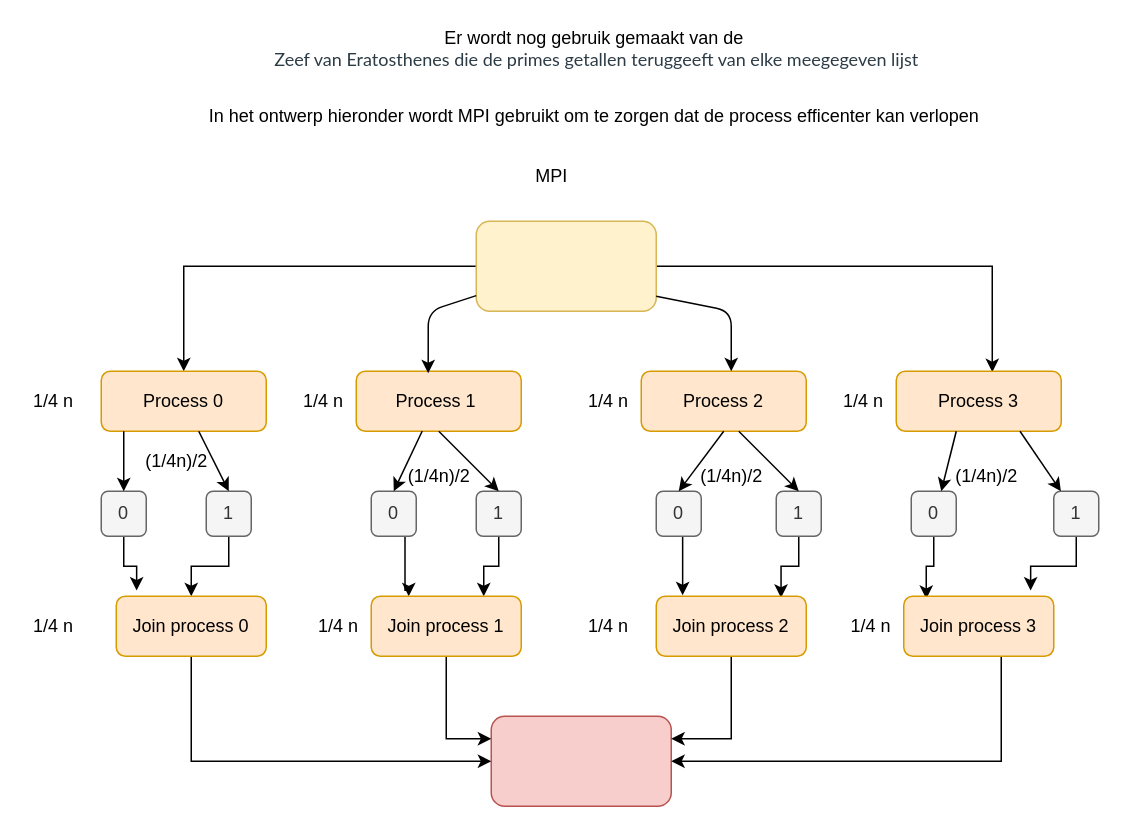
The diagram is 1125 pixels wide and 833 high, and some of its shapes have lost their labels. Each missing label, with the centre of its shape:
"Array van size n" belongs at [565,265].
"Reduce" belongs at [580,760].
